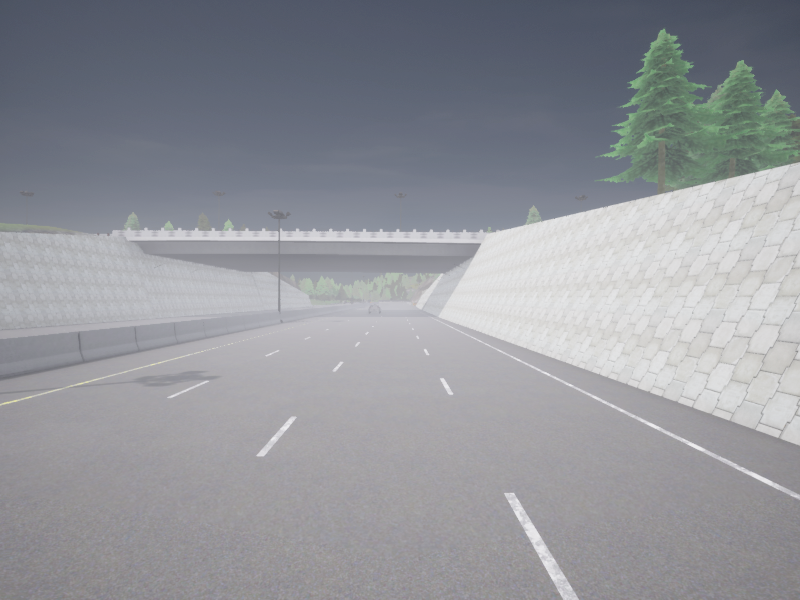vehicle: (368, 304, 380, 313)
